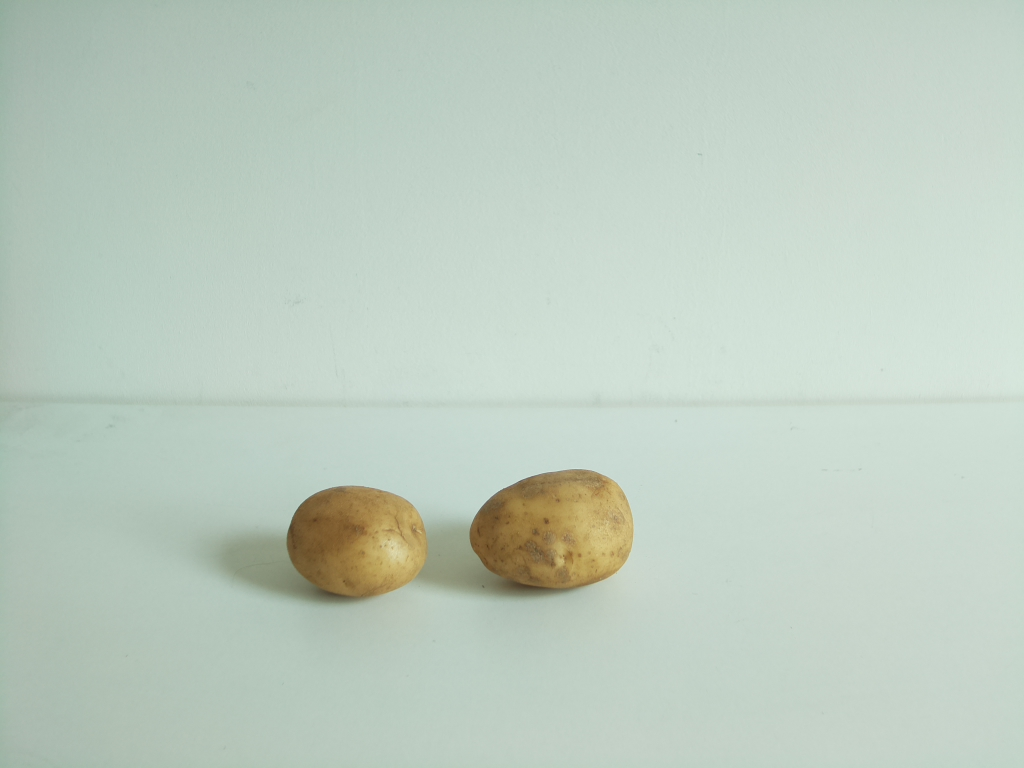potatoes: (466, 470, 631, 589), (287, 487, 426, 603)
